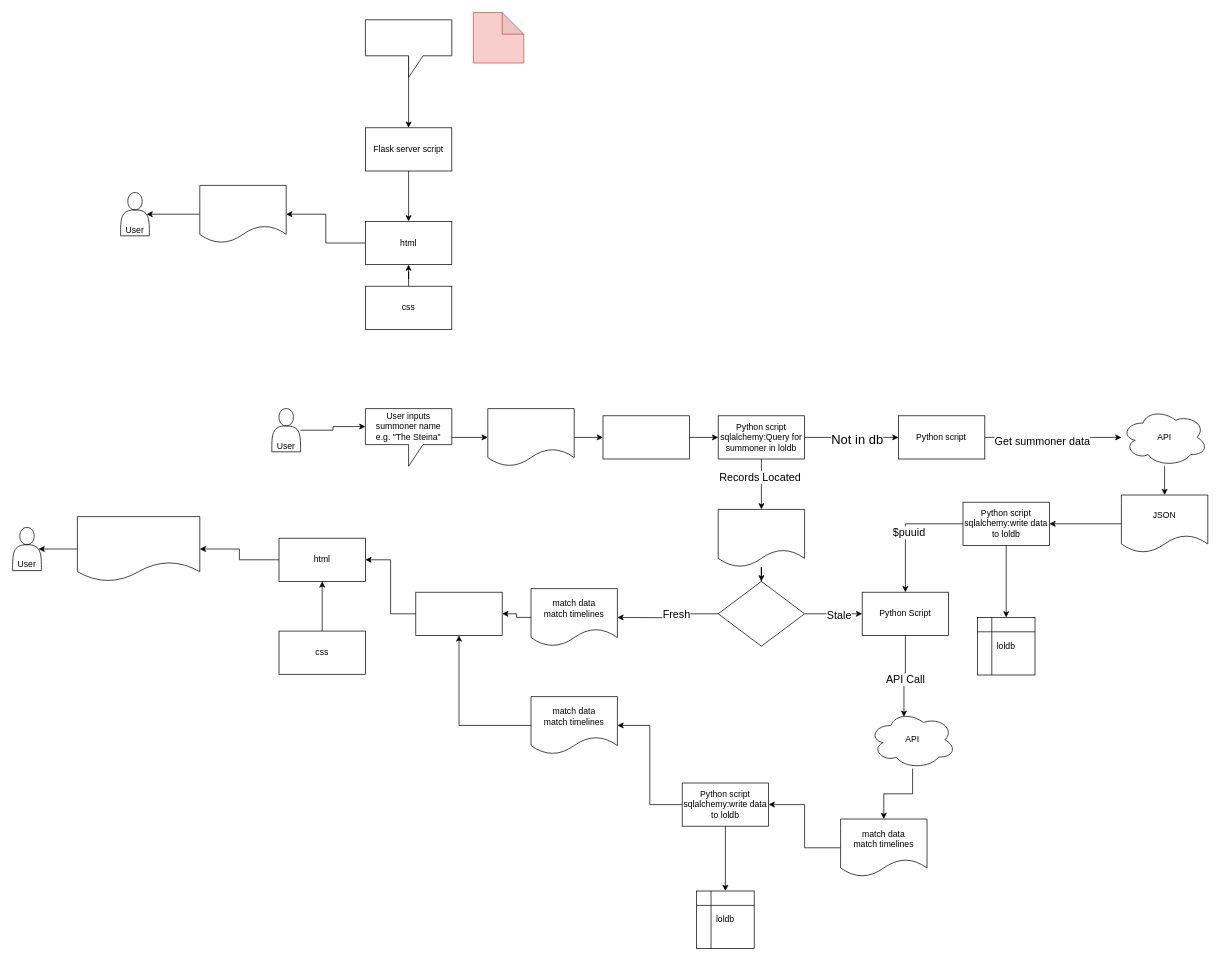
Some shapes in this 1220 by 961 pixel diagram are drawn without their labels. Each missing label, with the centre of its shape:
"flask script" goes at [458,613].
"Flask server" goes at [645,437].
"matches match timelines" goes at [761,538].
"Stale Data? e.g. >4 hrs" goes at [761,613].
"TODO: Move to remote host" goes at [498,37].
"User visits http://localhost:5000" goes at [408,48].
"webpage http://localhost:5000" goes at [242,214].
"webpage http://localhost:5000/lookup" goes at [138,548].
"webpage textInput box http://localhost:5000" goes at [530,437].
